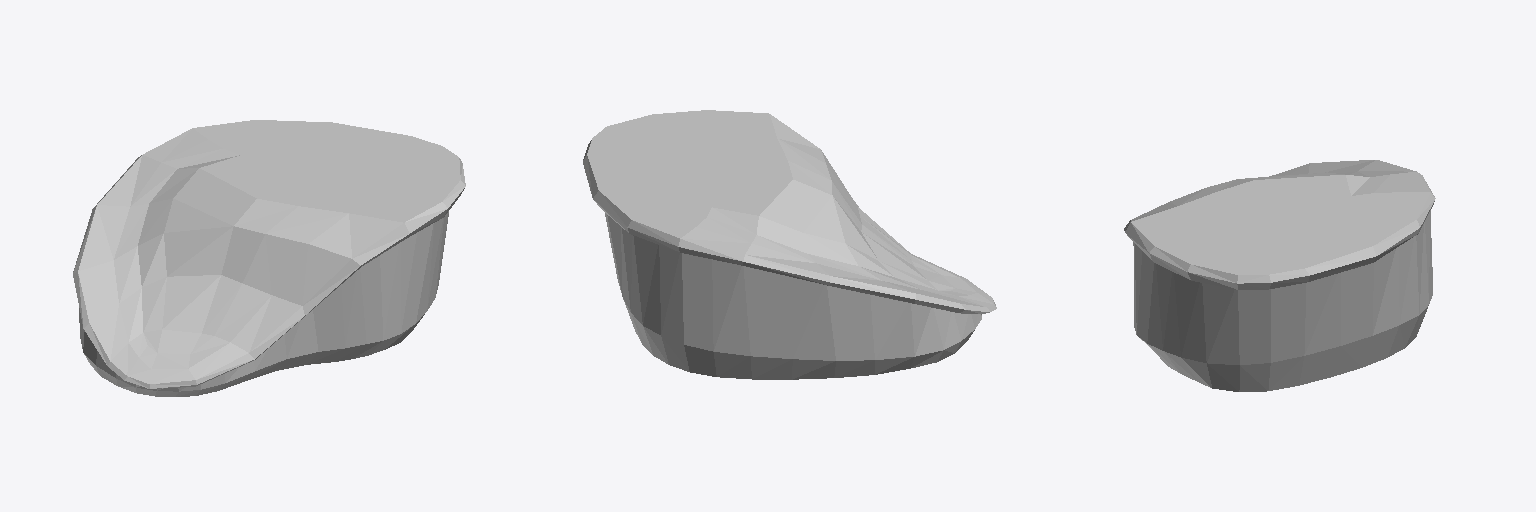
The model's file is SpawnIsland.obj.
The picture shows the model from 3 angles: view 1: azimuth 30°, elevation 25°; view 2: azimuth 150°, elevation 25°; view 3: azimuth 270°, elevation 25°; orthographic projection.
Visible parts, largest first — view 1: Spawn_low; view 2: Spawn_low; view 3: Spawn_low.
Part boxes in pixels (x1,y1,x2,y2): Spawn_low: (73, 120, 465, 396); Spawn_low: (583, 110, 996, 379); Spawn_low: (1124, 160, 1435, 391).
Bounding box in the file's own units: 1388 × 501 × 1010.